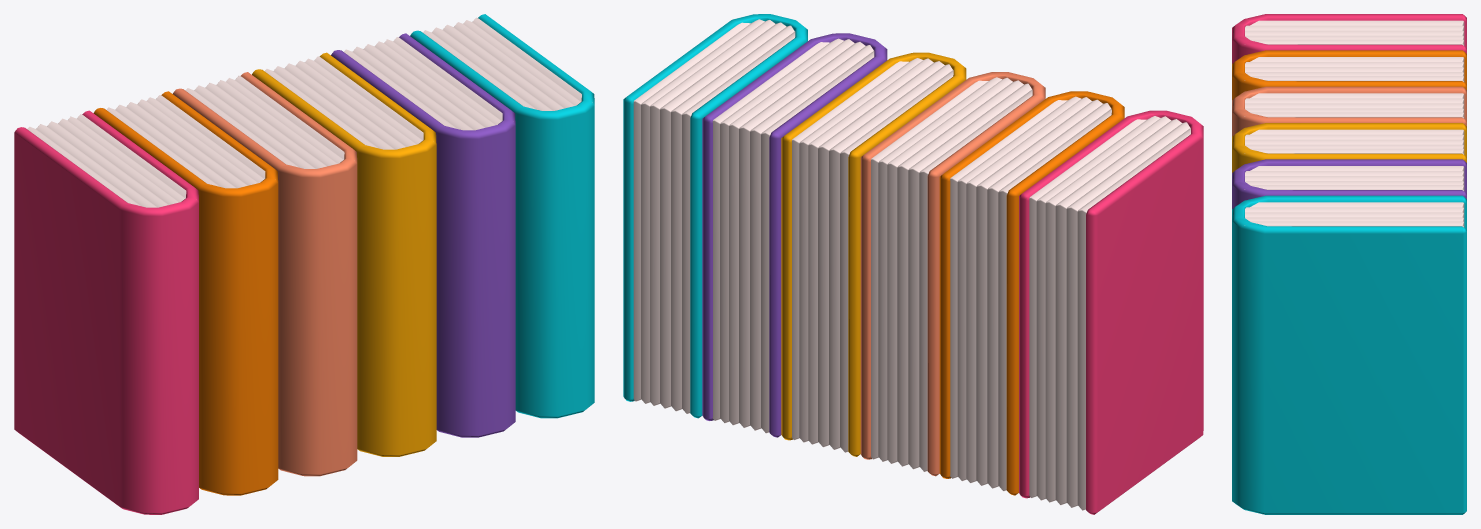
File: Public_8_Books_2.glb
3 views of the same model, side by side, from view 1: azimuth 30°, elevation 25°; view 2: azimuth 150°, elevation 25°; view 3: azimuth 270°, elevation 25° (orthographic). The views are drawn at different scales.
Visible parts, largest first — view 1: Public_8_Books_2; view 2: Public_8_Books_2; view 3: Public_8_Books_2.
Boxes of the visible parts, x1=… form: Public_8_Books_2: x1=14, y1=14, x2=594, y2=514; Public_8_Books_2: x1=623, y1=14, x2=1203, y2=514; Public_8_Books_2: x1=1232, y1=14, x2=1466, y2=514.
Size of the model in its own units: 1.88 by 1.15 by 0.8548.
1 material, 1 textured.
